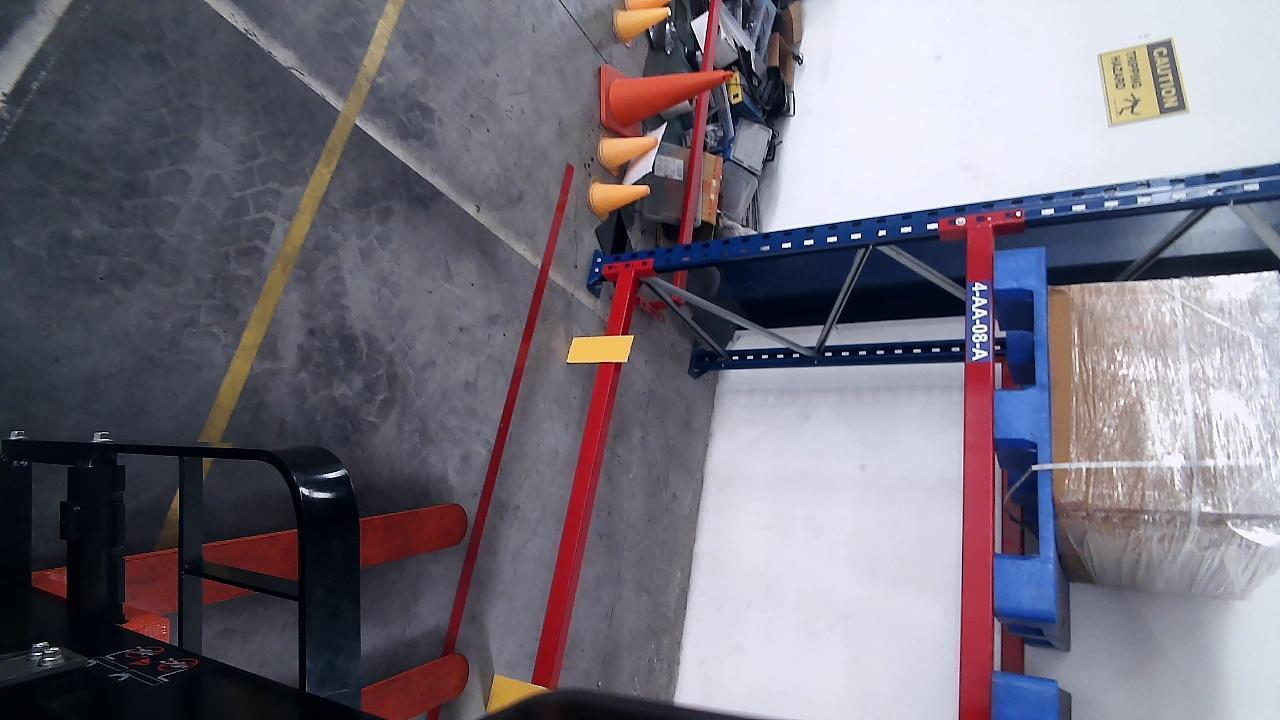red_line: (444, 162, 575, 653)
yellow_line: (194, 3, 402, 444)
